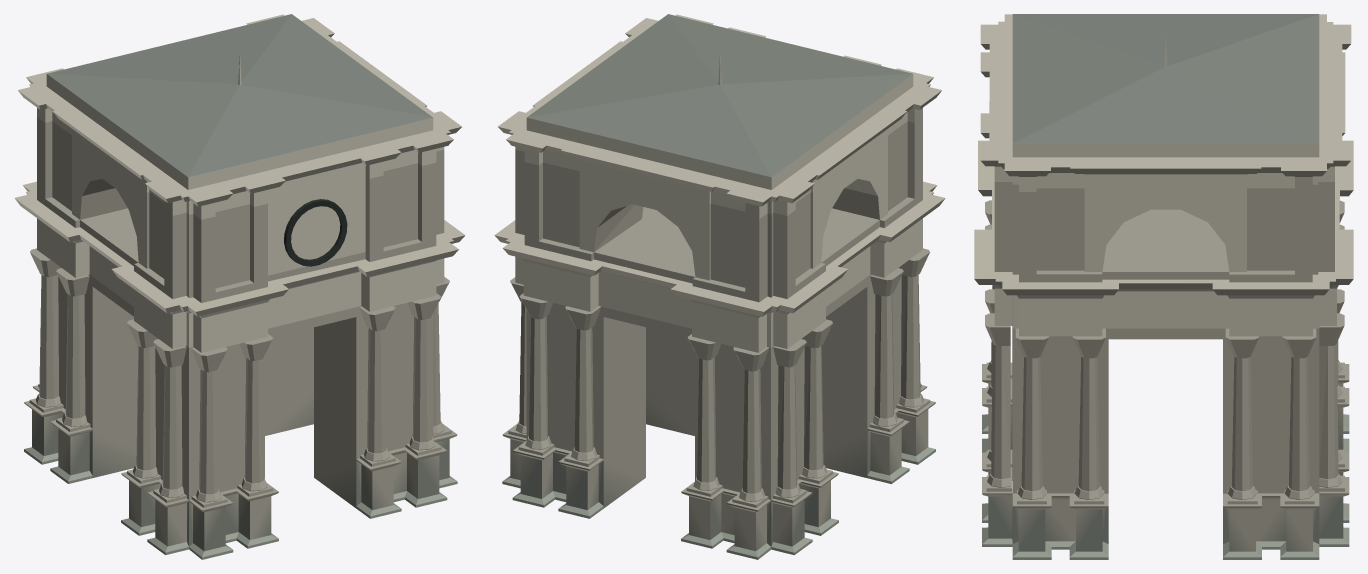
3 views of the same model, side by side, from view 1: azimuth 30°, elevation 25°; view 2: azimuth 150°, elevation 25°; view 3: azimuth 270°, elevation 25° (orthographic). The views are drawn at different scales.
Visible parts, largest first — view 1: polySurface132:PIV; view 2: polySurface132:PIV; view 3: polySurface132:PIV.
Part boxes in pixels (bbox=[...]): polySurface132:PIV: bbox=[14, 14, 465, 559]; polySurface132:PIV: bbox=[494, 14, 945, 559]; polySurface132:PIV: bbox=[974, 14, 1353, 559].
Bounding box in the file's own units: 985 × 1302 × 995.
